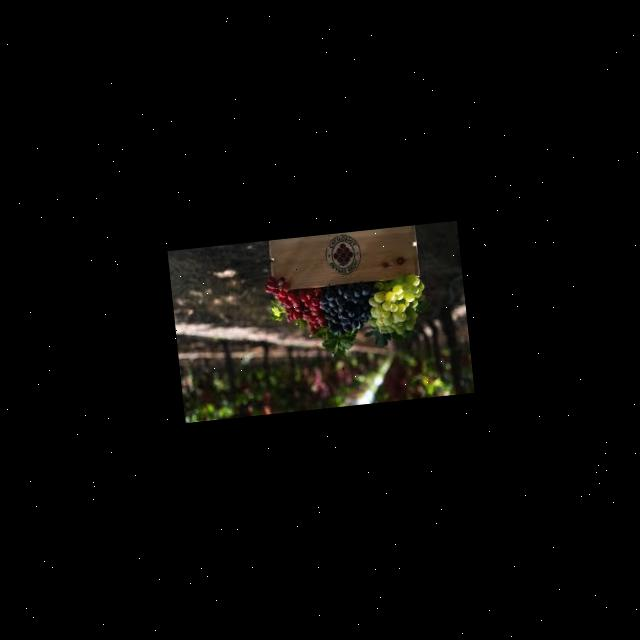grape: (362, 270, 430, 338), (262, 270, 326, 336), (316, 280, 379, 336)
